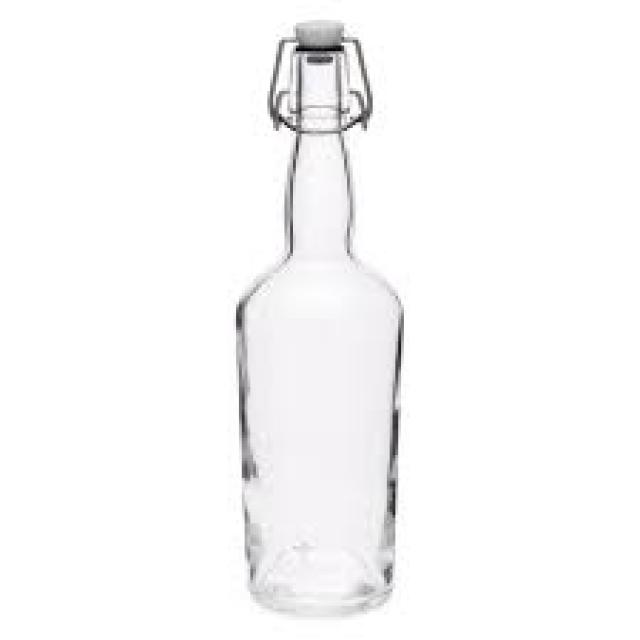glass: (236, 43, 395, 614)
plastic: (293, 20, 341, 40)
